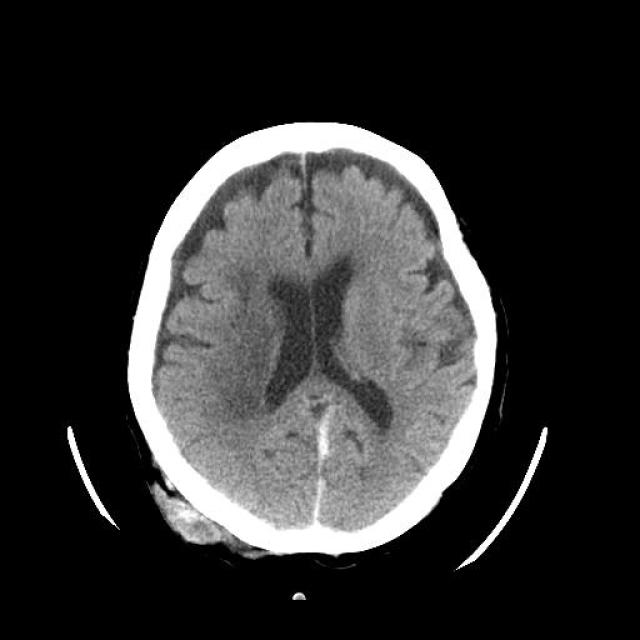Subdural: (292, 406, 352, 544)
